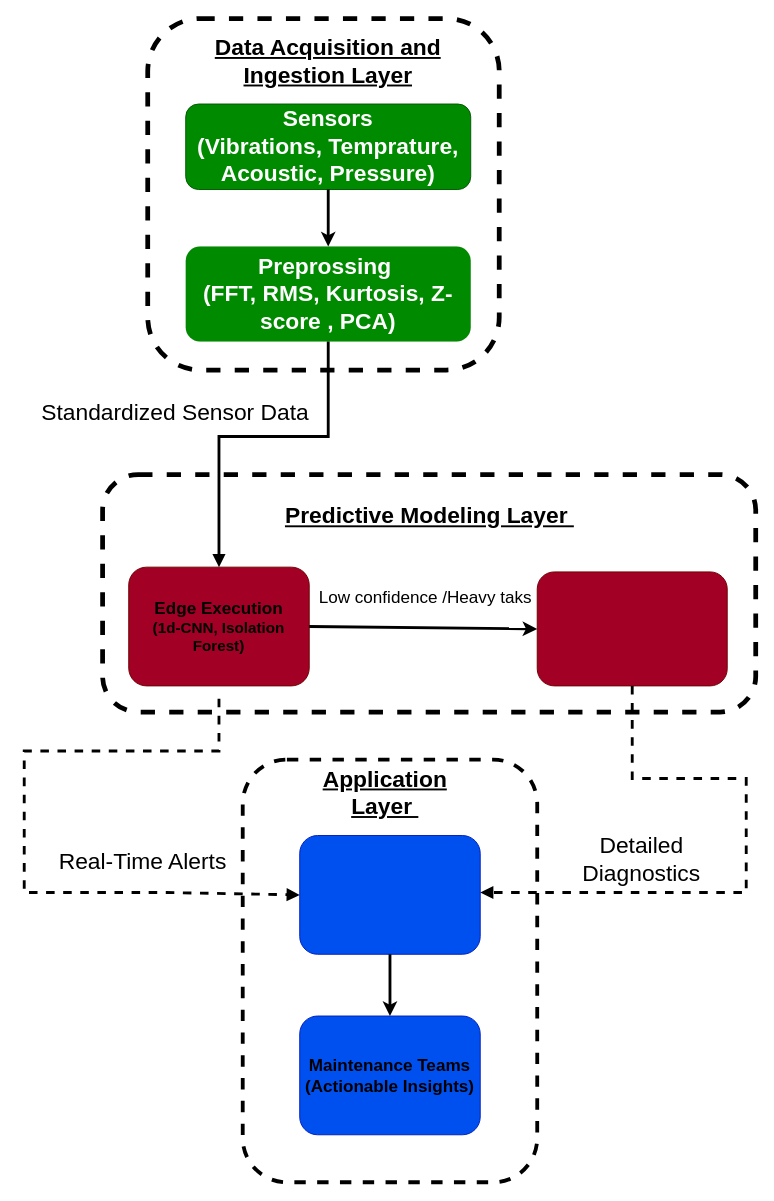
The diagram is 774 pixels wide and 1201 high, and some of its shapes have lost their labels. Each missing label, with the centre of its shape:
"Cloud Execution ( Random Forest, Autoencoders, 2D-CNN )" goes at point 631,628.
"Web Dashboard (Alerts & Visualization)" goes at point 389,894.
